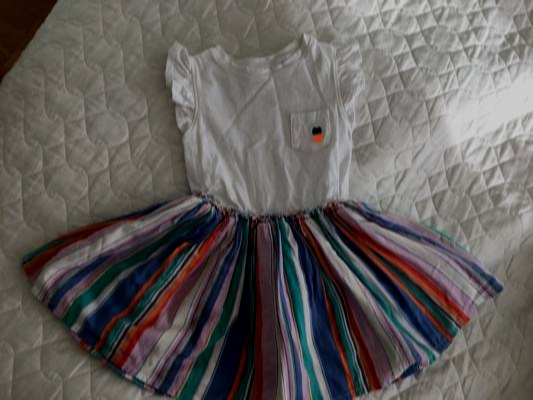Dress: (25, 32, 516, 394)
